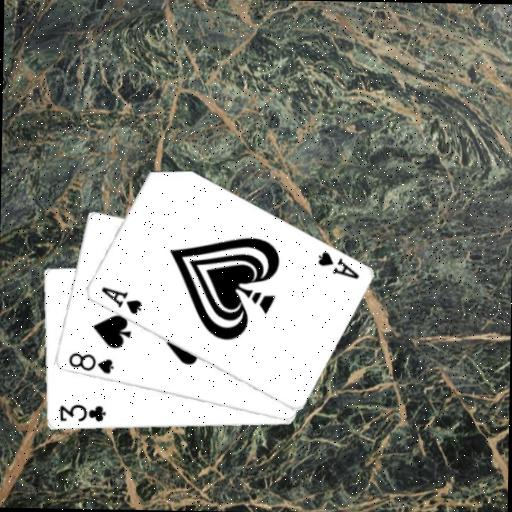3C: (56, 401, 107, 424)
8S: (65, 350, 116, 376)
AS: (314, 249, 362, 282), (97, 284, 143, 316)
